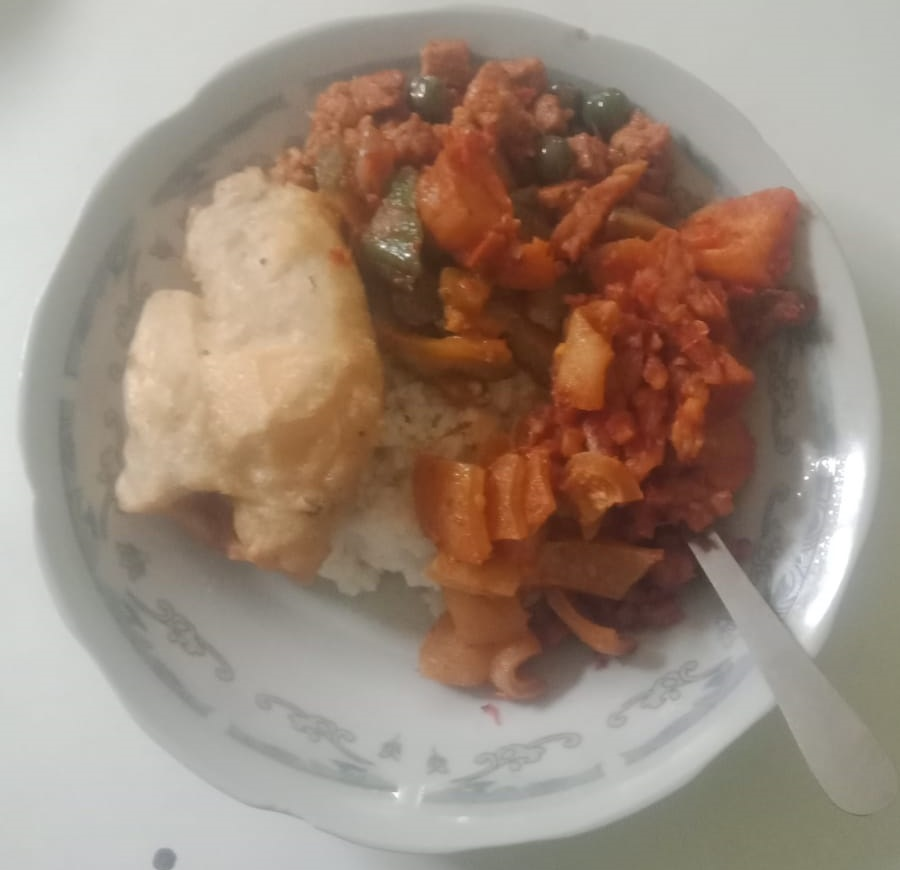Gorengan: (141, 200, 341, 567)
Kikil: (436, 465, 630, 698)
Nasi: (350, 484, 419, 621)
Sambel_tempe_kentang: (385, 35, 825, 359)
